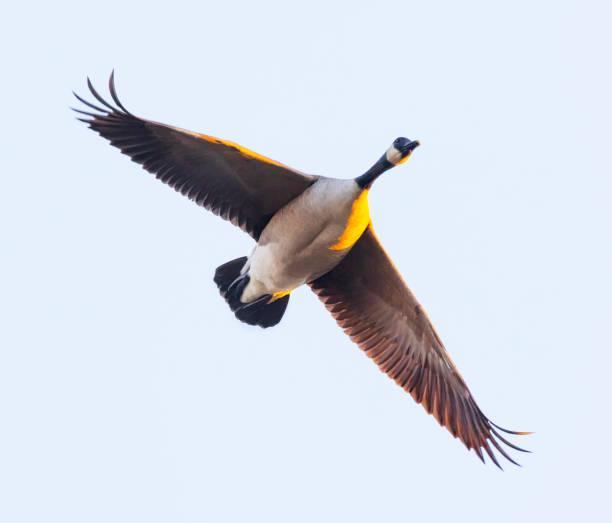Canadian-Goose: (69, 63, 529, 479)
